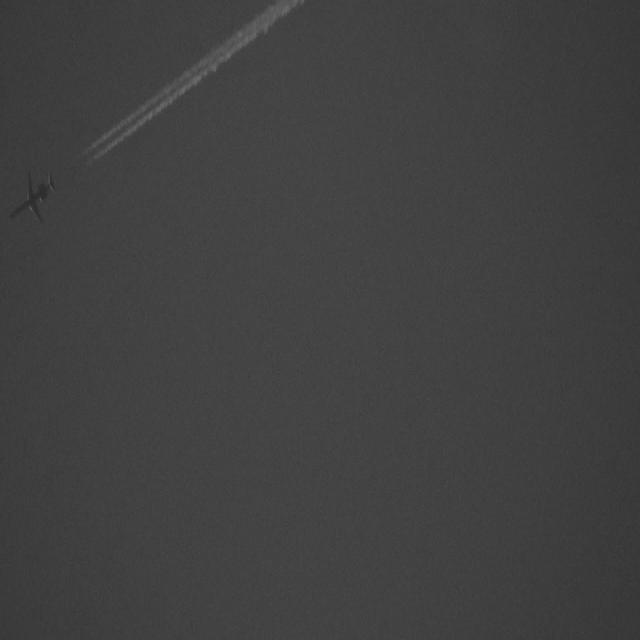aeroplane: (8, 168, 58, 231)
